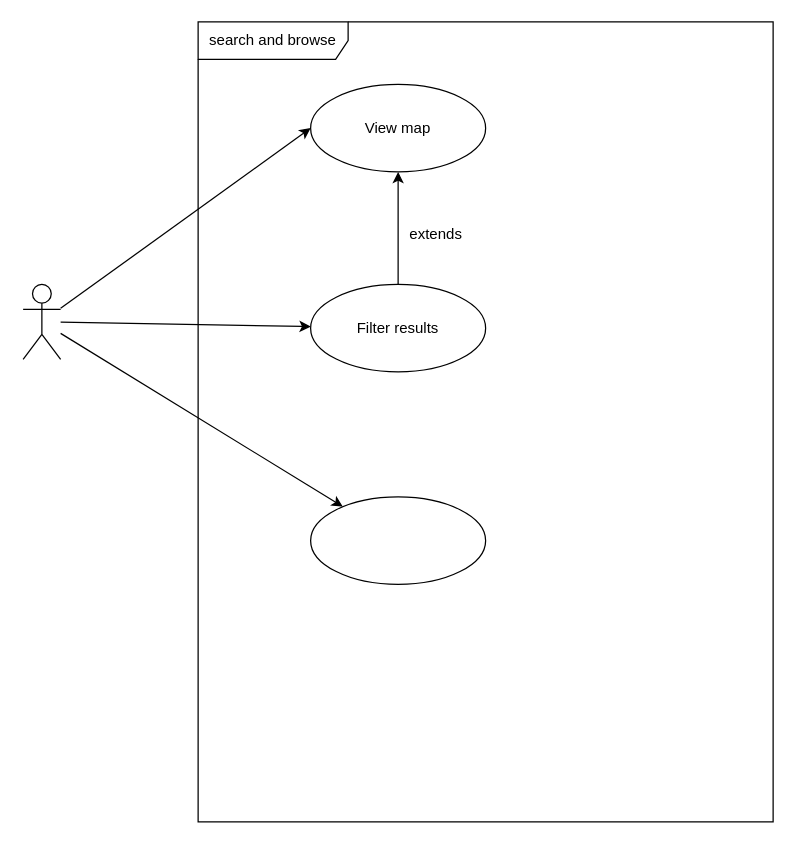
This 795x844 diagram has some shape labels left out. Here are the shapes that lost their labels. From the top down, the box of each, then its label:
(22, 283, 61, 359): Public
(309, 496, 486, 584): View school details on map
